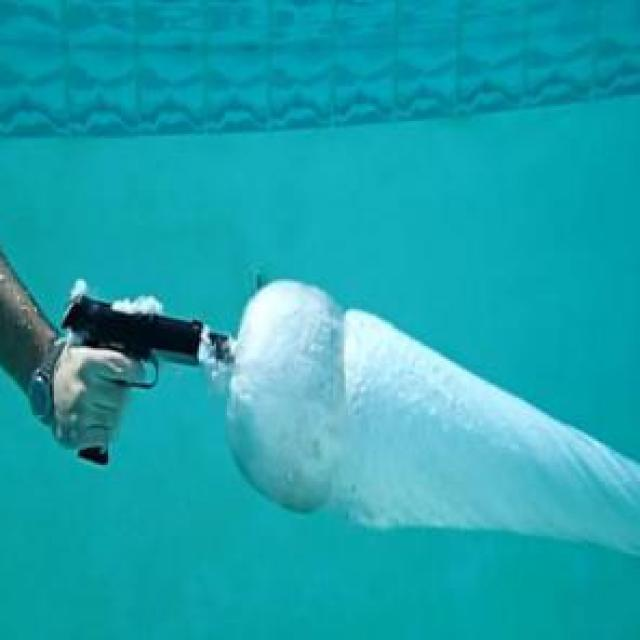pistol: (62, 292, 231, 469)
